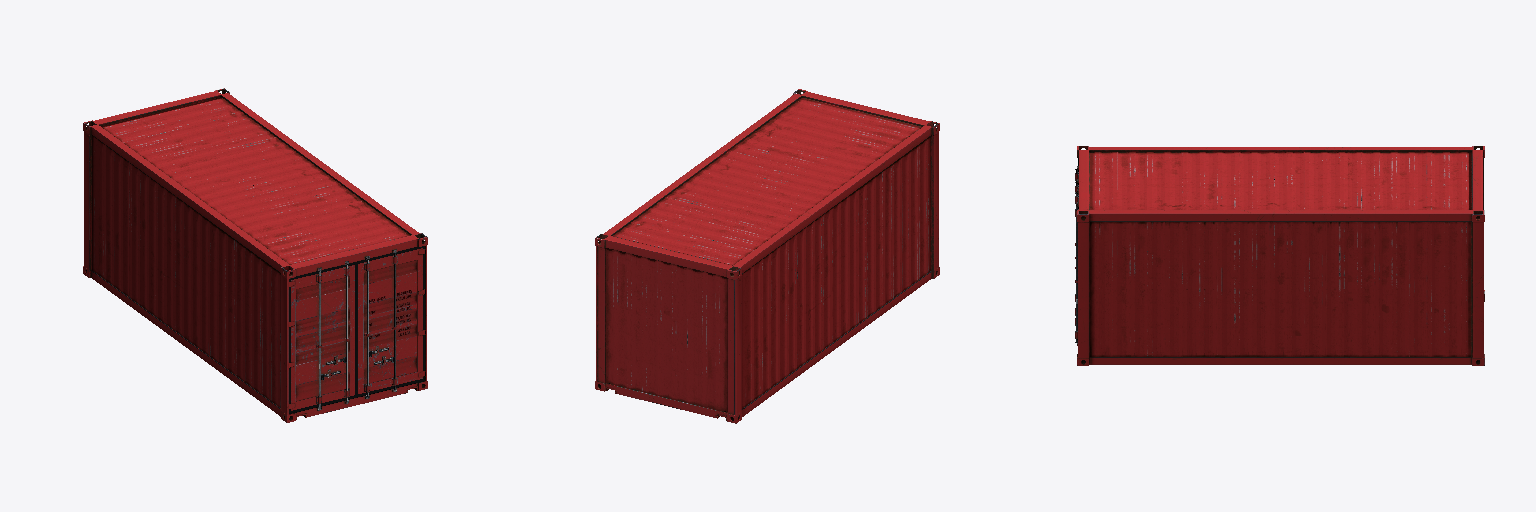
3 views of the same model, side by side, from view 1: azimuth 30°, elevation 25°; view 2: azimuth 150°, elevation 25°; view 3: azimuth 270°, elevation 25° (orthographic).
Visible parts, largest first — view 1: Container_low; view 2: Container_low; view 3: Container_low.
Boxes of the visible parts, box(x1,y1,x2,y2) form: Container_low: box(83, 88, 427, 422); Container_low: box(595, 89, 939, 423); Container_low: box(1075, 146, 1484, 365).
Size of the model in its own units: 2.35 by 2.41 by 5.91.
1 materials, 1 textured.